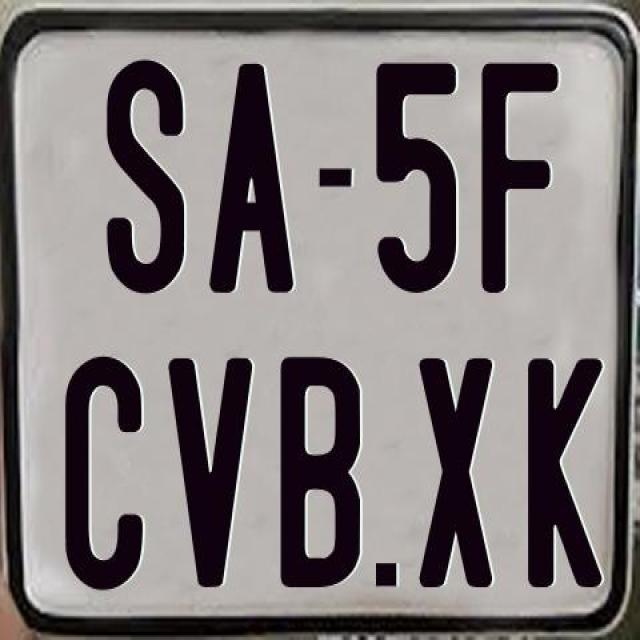5: (373, 59, 459, 290)
A: (206, 59, 290, 288)
B: (280, 353, 364, 584)
C: (65, 356, 151, 588)
F: (481, 59, 564, 291)
K: (528, 357, 611, 587)
S: (102, 58, 180, 294)
V: (164, 355, 252, 587)
X: (416, 356, 491, 594)
